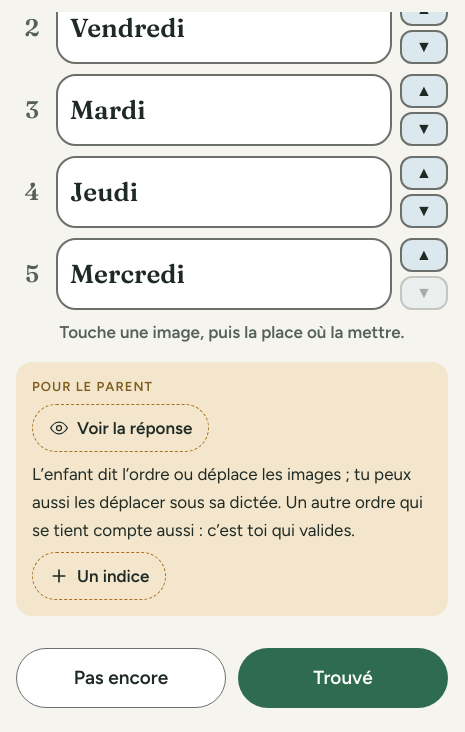
Test case: Remets dans l’ordre › au clavier : les flèches déplacent l’image, qui garde le focus
Later steps or results of the test are not shown.
(page scrolled)
Click the button "Voir la réponse" at (121, 428), box [32,404,209,452]
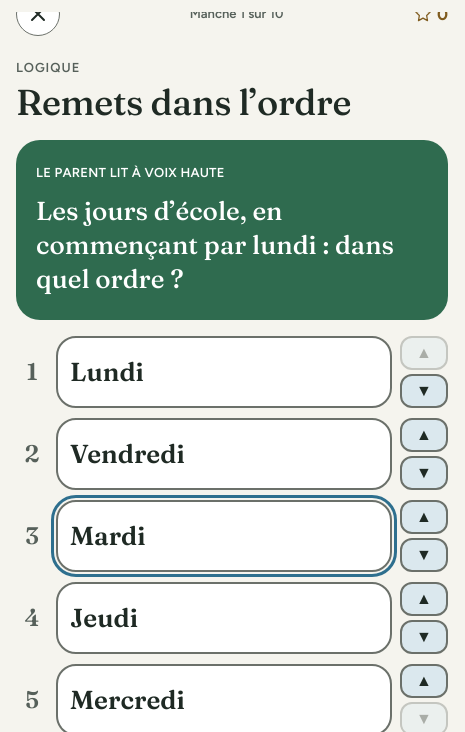
Press Arrowup
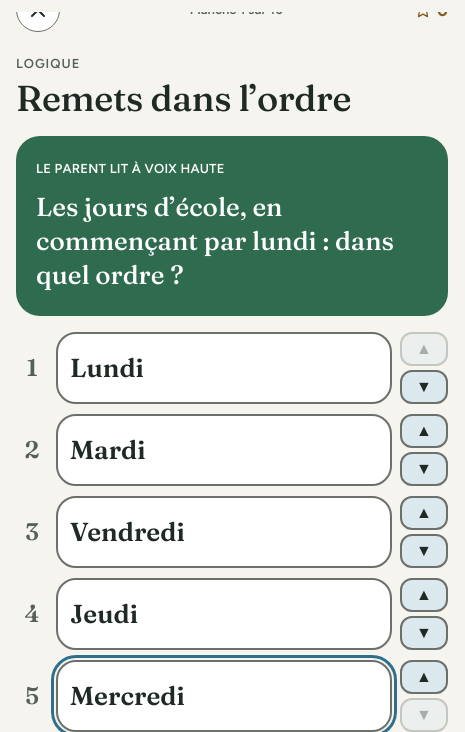
Press Arrowup
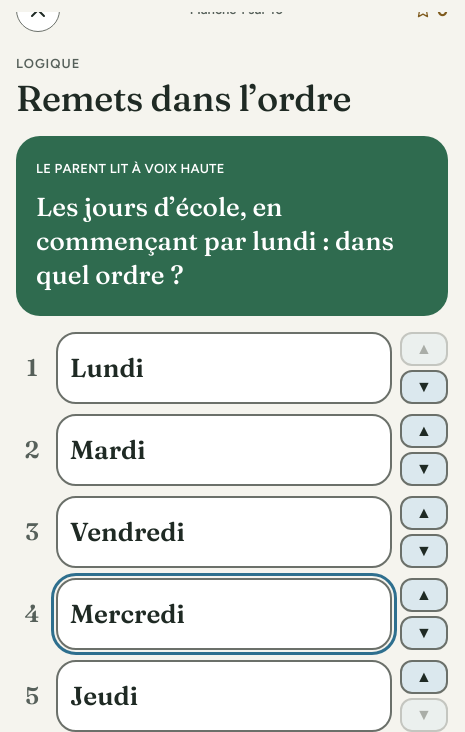
Press Arrowup
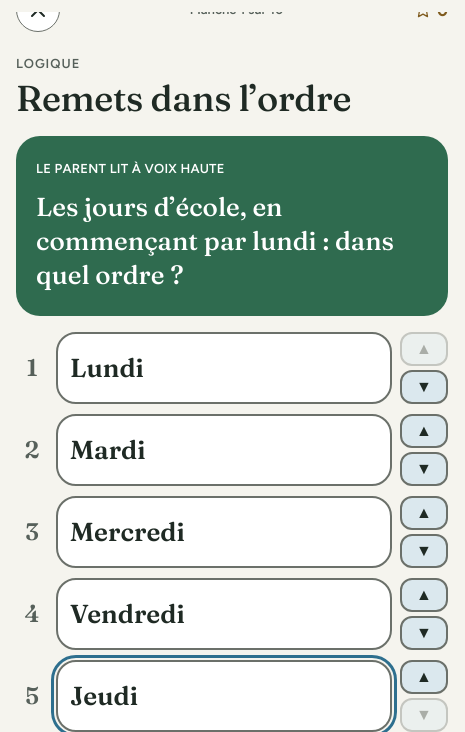
Press Arrowup
(page scrolled)
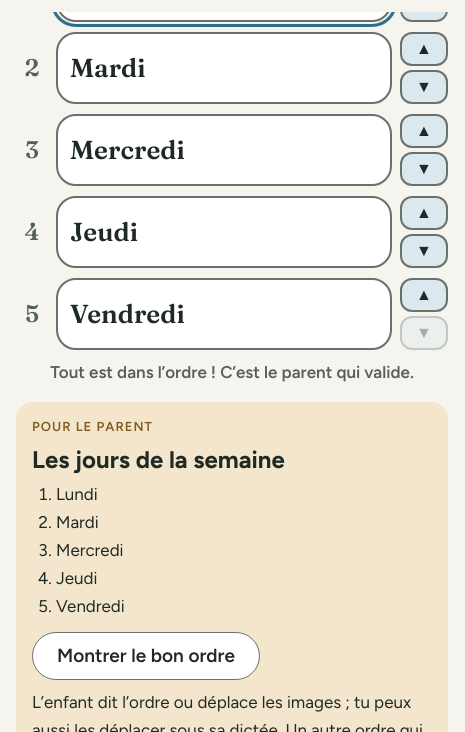
Check: the message shows "Tout est dans l’ordre !", box [50,362,414,382]
Press End
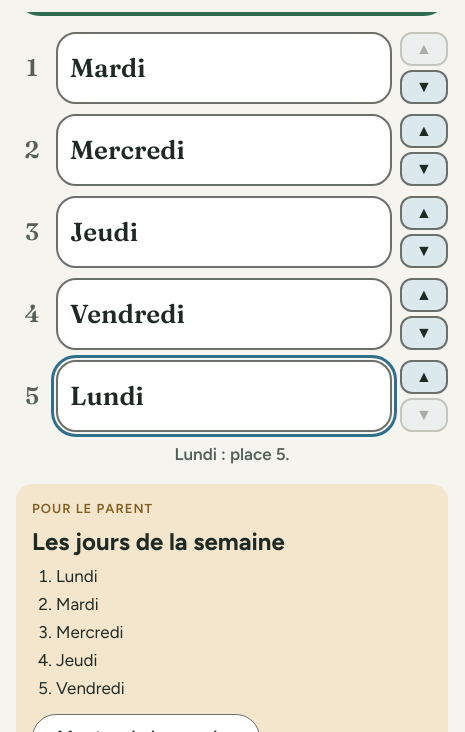
Check: the text "Lundi" is shown, box [70,382,144,410]
